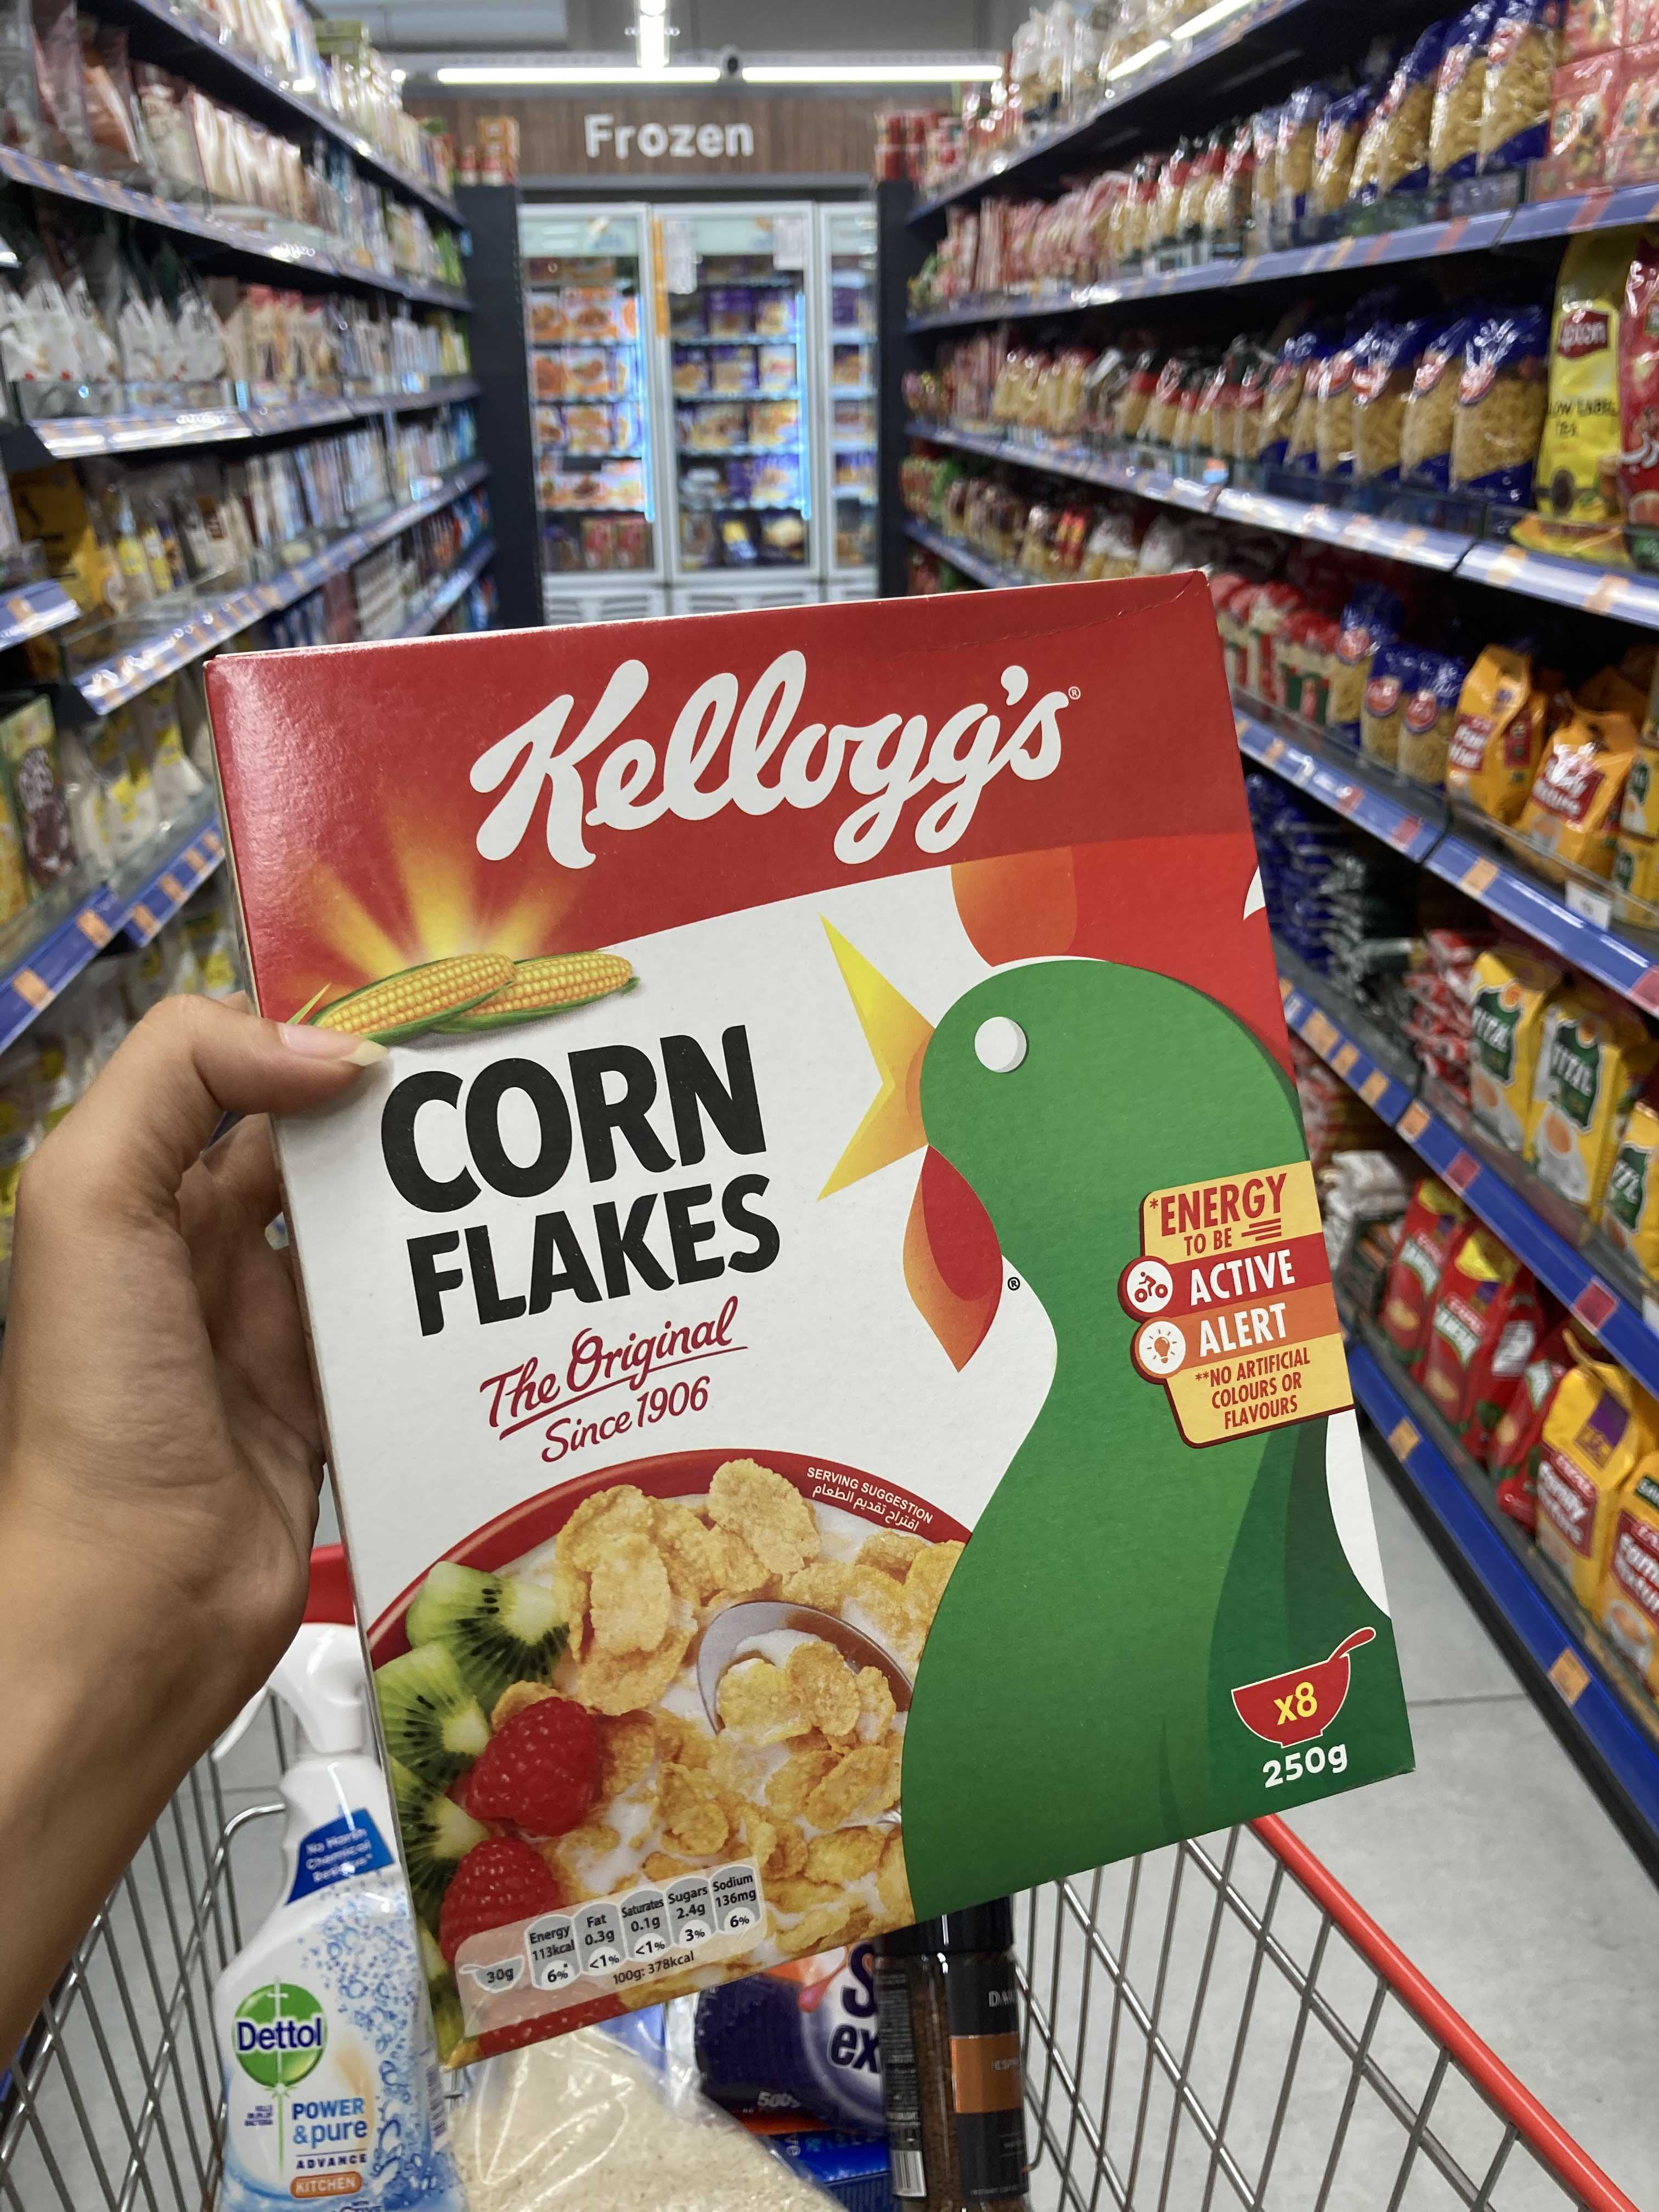Kellogg's Corn Flakes: (183, 557, 1476, 2073)
